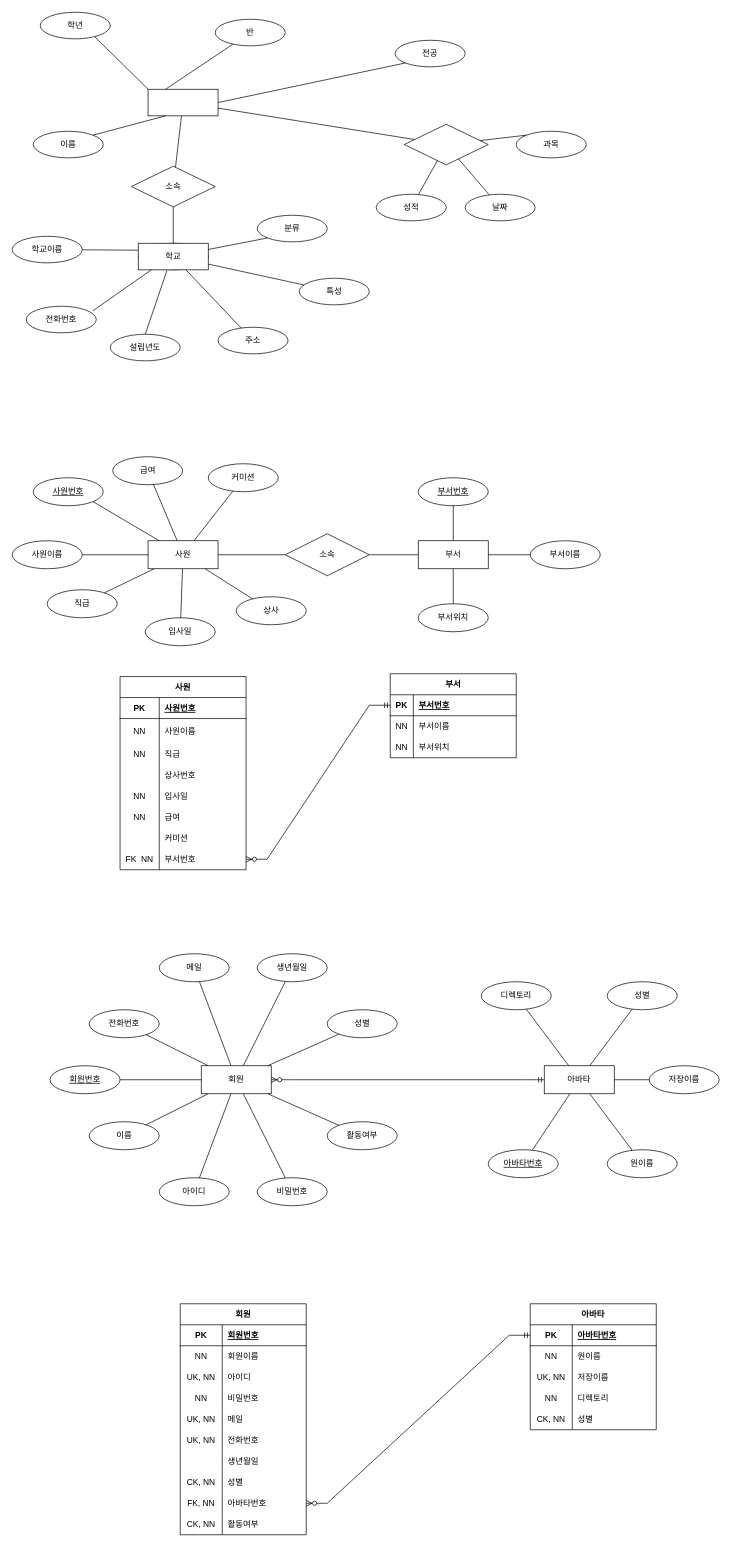
Some shapes in this 732 by 1547 pixel diagram are drawn without their labels. The box of each missing label's shape, as (x1, y1, x2, y2) in pixels:
평가: (404, 124, 488, 165)
학생: (147, 89, 218, 116)
